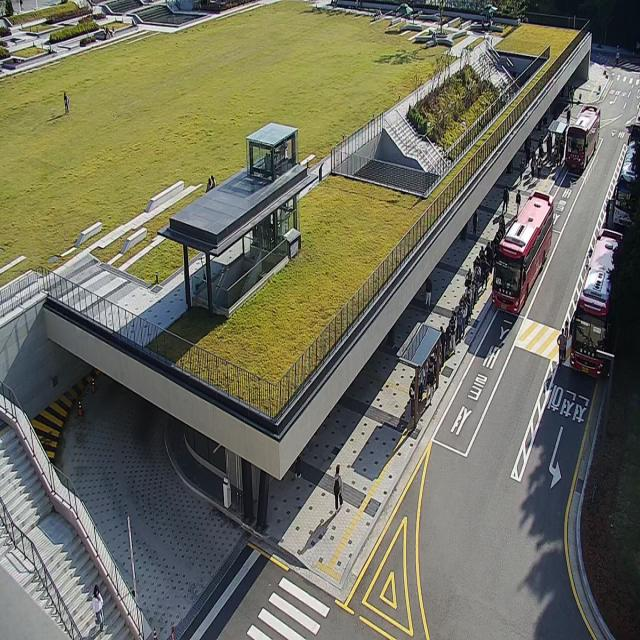queue: (414, 212, 506, 424)
